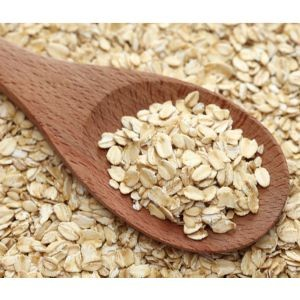oat_brain food: (110, 96, 268, 236)
